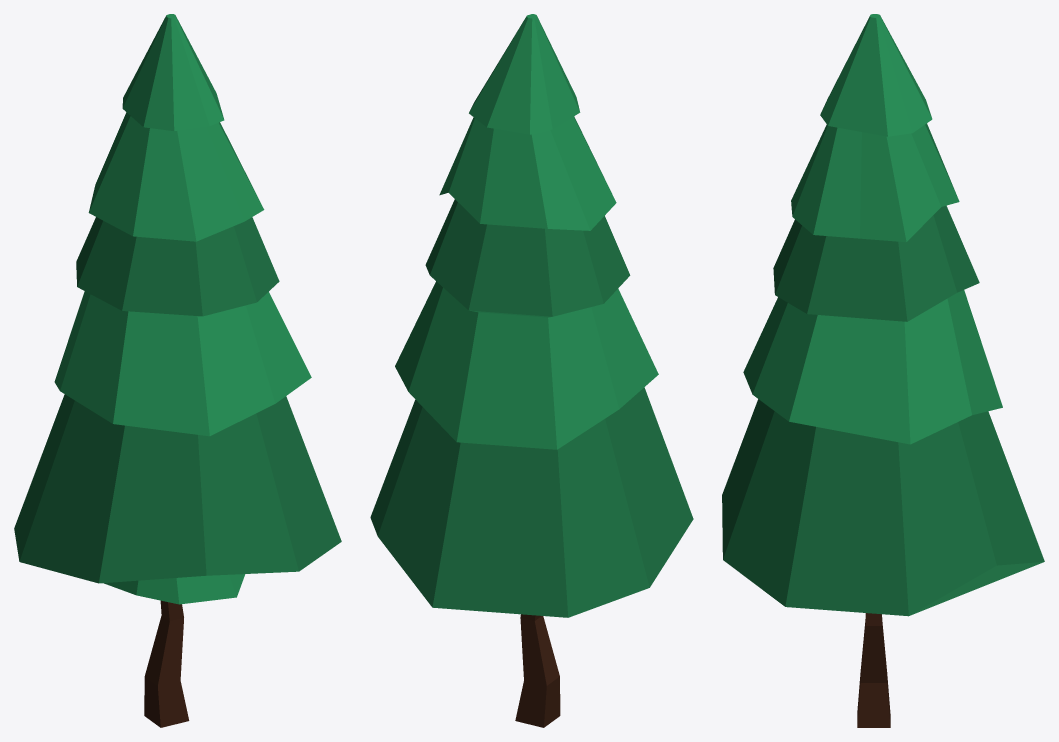
The model's file is tree6.fbx.
3 renders of one model, left to right at view 1: azimuth 30°, elevation 25°; view 2: azimuth 150°, elevation 25°; view 3: azimuth 270°, elevation 25°, orthographic.
Parts seen in each view (by area): view 1: Cylinder, Cube; view 2: Cylinder, Cube; view 3: Cylinder, Cube.
Boxes of the visible parts, box(x1,y1,x2,y2) form: Cylinder: box(14, 14, 341, 604); Cube: box(144, 600, 189, 727); Cylinder: box(370, 14, 693, 617); Cube: box(515, 614, 560, 727); Cylinder: box(722, 14, 1044, 616); Cube: box(857, 613, 890, 727).
Bounding box in the file's own units: 423 × 1013 × 419.
